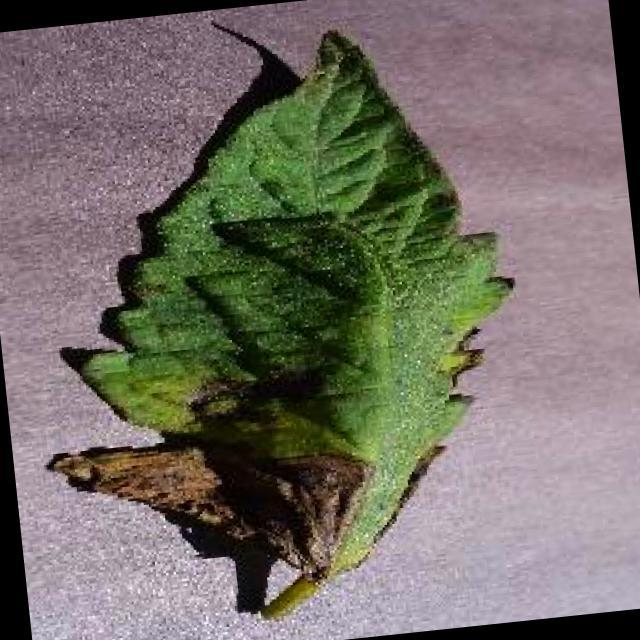Tomato Early blight leaf: (3, 18, 541, 607)
